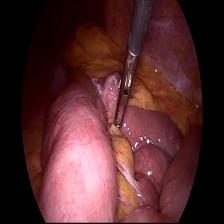Grasper: (112, 48, 141, 128)
